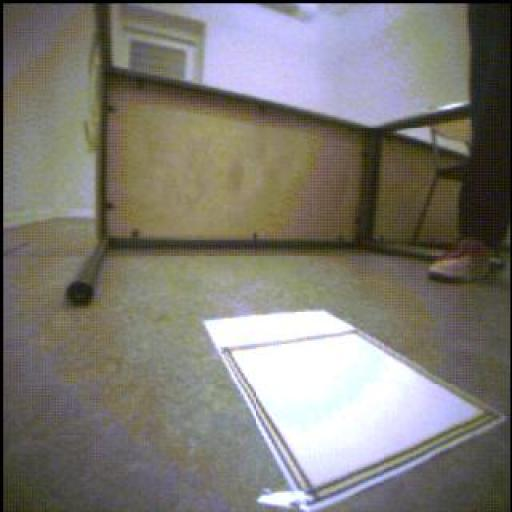Pad: (206, 311, 505, 512)
